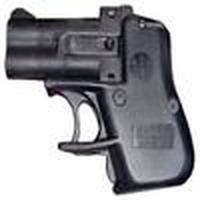gun: (4, 8, 195, 196)
